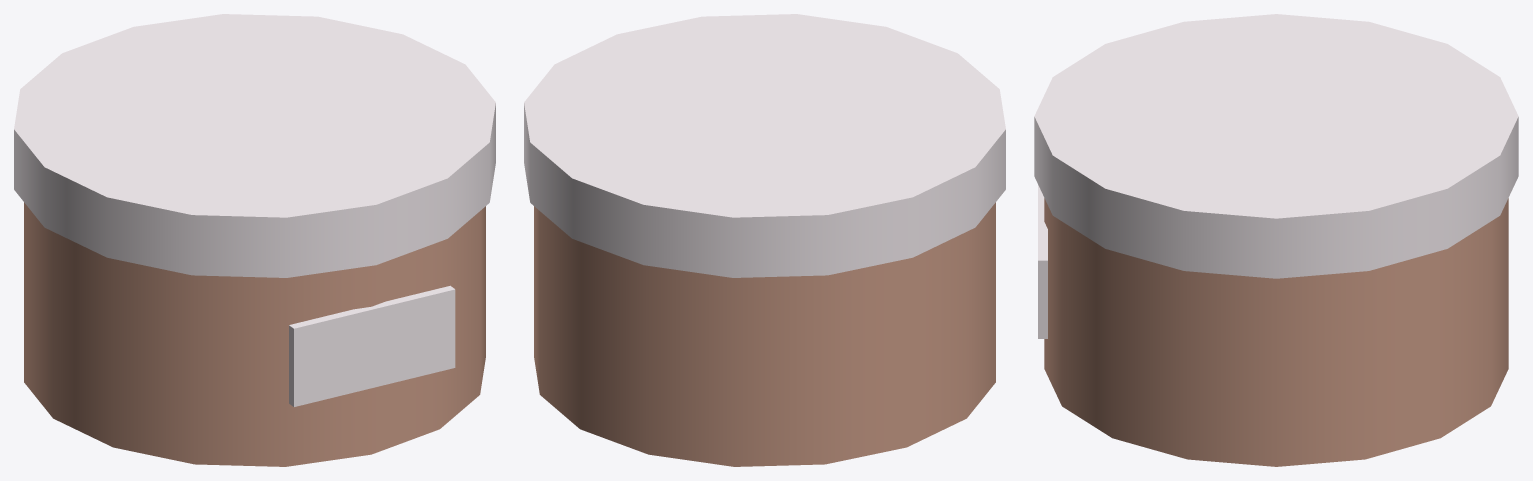
The model's file is TRD-02-02.glb.
3 views of the same model, side by side, from view 1: azimuth 30°, elevation 25°; view 2: azimuth 150°, elevation 25°; view 3: azimuth 270°, elevation 25° (orthographic).
Visible parts, largest first — view 1: TRD-02-02; view 2: TRD-02-02; view 3: TRD-02-02.
Part boxes in pixels (box(x1,y1,x2,y2)): TRD-02-02: box(14, 14, 495, 466); TRD-02-02: box(524, 14, 1005, 466); TRD-02-02: box(1034, 14, 1518, 466).
Bounding box in the file's own units: 0.73 × 0.42 × 0.73.
